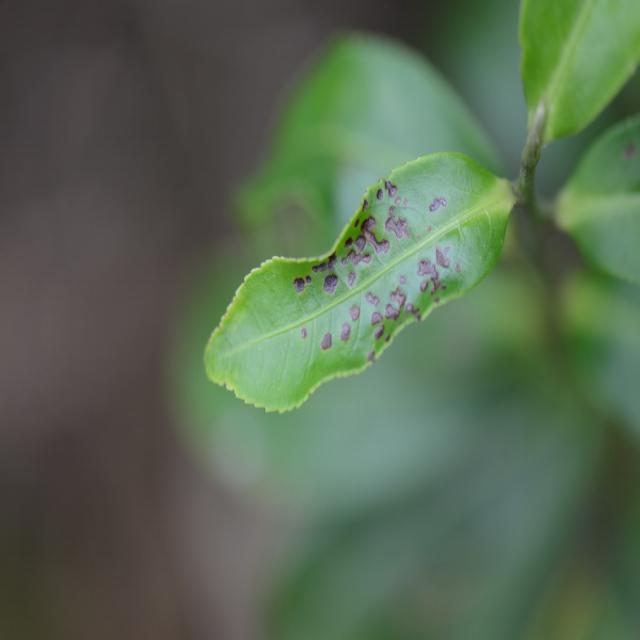Tea red scab: (305, 185, 485, 354)
